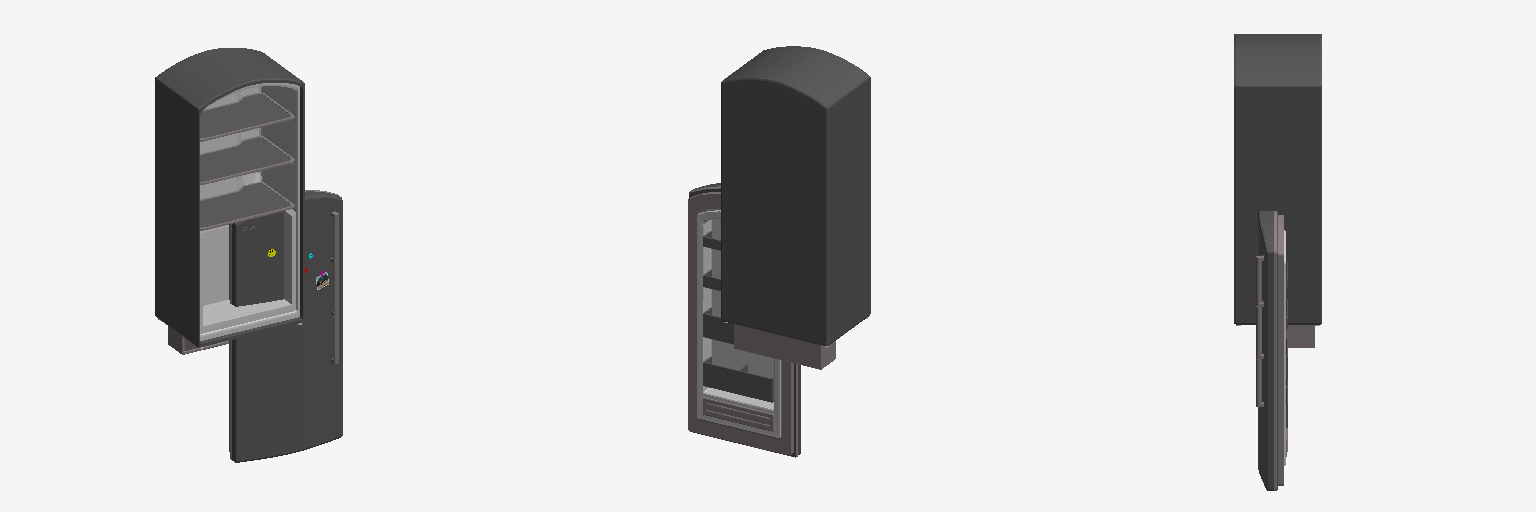
3 views of the same model, side by side, from view 1: azimuth 30°, elevation 25°; view 2: azimuth 150°, elevation 25°; view 3: azimuth 270°, elevation 25° (orthographic).
Visible parts, largest first — view 1: FridgeBodyMesh_0, Mesh_1; view 2: FridgeBodyMesh_0, Mesh_1, fridge_drawer1_29_2, fridge_drawer2_29_3; view 3: FridgeBodyMesh_0, Mesh_1.
Part boxes in pixels (left/top/right/bottom): FridgeBodyMesh_0: left=155, top=48, right=304, bottom=348; Mesh_1: left=229, top=190, right=342, bottom=462; FridgeBodyMesh_0: left=721, top=46, right=870, bottom=347; Mesh_1: left=688, top=183, right=800, bottom=457; fridge_drawer1_29_2: left=734, top=324, right=835, bottom=369; fridge_drawer2_29_3: left=734, top=325, right=818, bottom=358; FridgeBodyMesh_0: left=1234, top=34, right=1321, bottom=325; Mesh_1: left=1256, top=211, right=1287, bottom=490.
Bounding box in the file's own units: 1.53 × 3.58 × 0.7455.
7 materials, 1 textured.